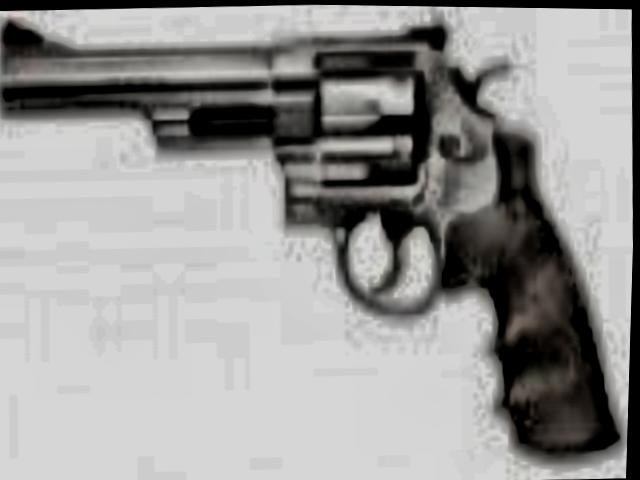pistol: (0, 0, 631, 473)
